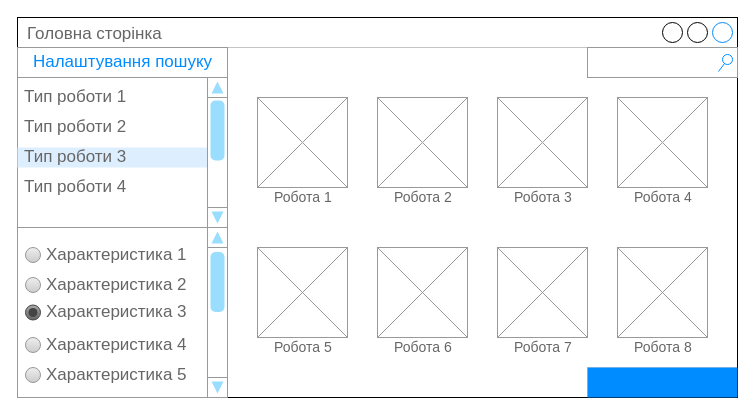
This 755x415 diagram has some shape labels left out. The shapes that lost their labels are listed below. From the top down, each one's box as (x1, y1, x2, y2) in pixels, then its label:
(586, 46, 738, 78): Пошук роботи
(16, 206, 228, 228): Тип роботи 5
(586, 370, 738, 394): Викласти роботу
